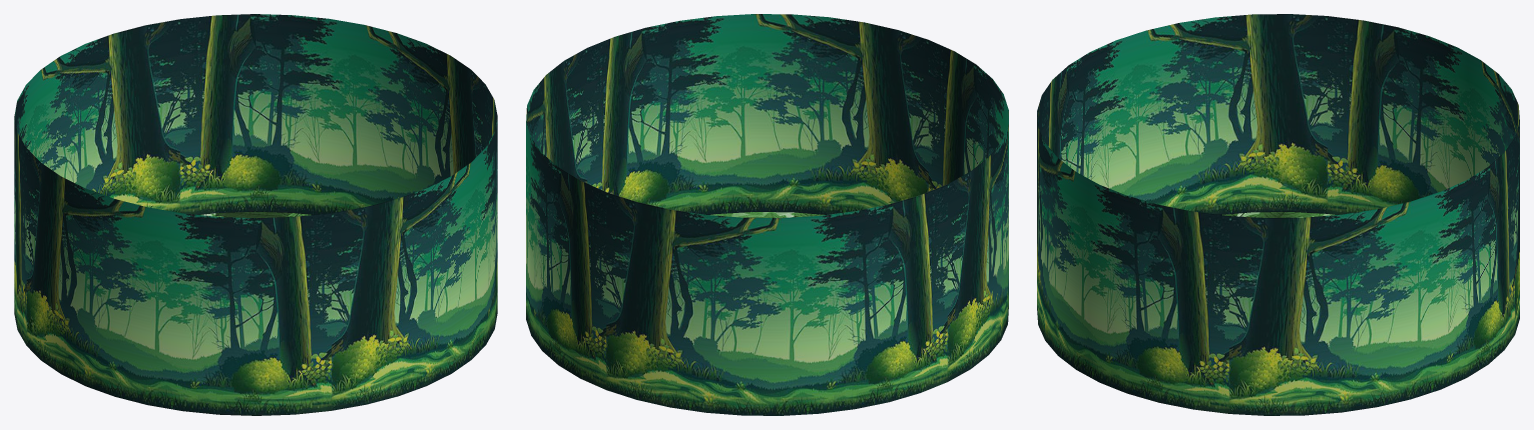
The model's file is BeiJing.fbx.
The picture shows the model from 3 angles, left to right: view 1: azimuth 30°, elevation 25°; view 2: azimuth 150°, elevation 25°; view 3: azimuth 270°, elevation 25°; orthographic projection.
Parts seen in each view (by area): view 1: polySurface1, polySurface2; view 2: polySurface1, polySurface2; view 3: polySurface1, polySurface2.
Part boxes in pixels (x1=…): polySurface1: x1=14, y1=14, x2=497, y2=415; polySurface2: x1=201, y1=211, x2=310, y2=218; polySurface1: x1=526, y1=14, x2=1008, y2=415; polySurface2: x1=710, y1=212, x2=824, y2=217; polySurface1: x1=1037, y1=14, x2=1519, y2=415; polySurface2: x1=1222, y1=212, x2=1334, y2=217.
Size of the model in its own units: 448 by 203 by 448.
